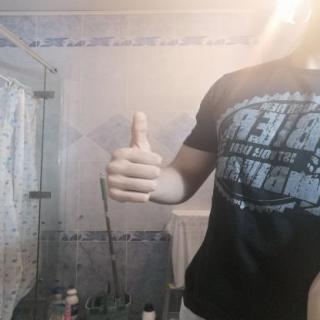ALIF: (95, 106, 173, 212)
